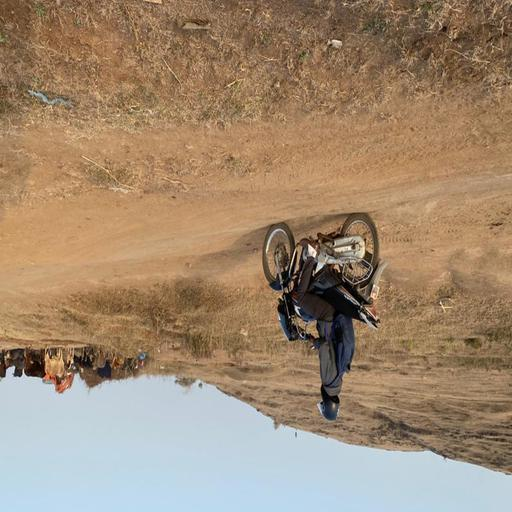vehicle_track: (0, 116, 512, 296)
